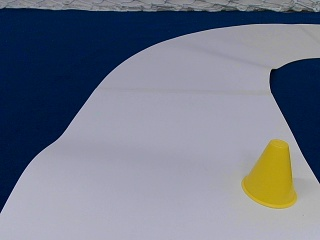cone: (242, 142, 296, 207)
